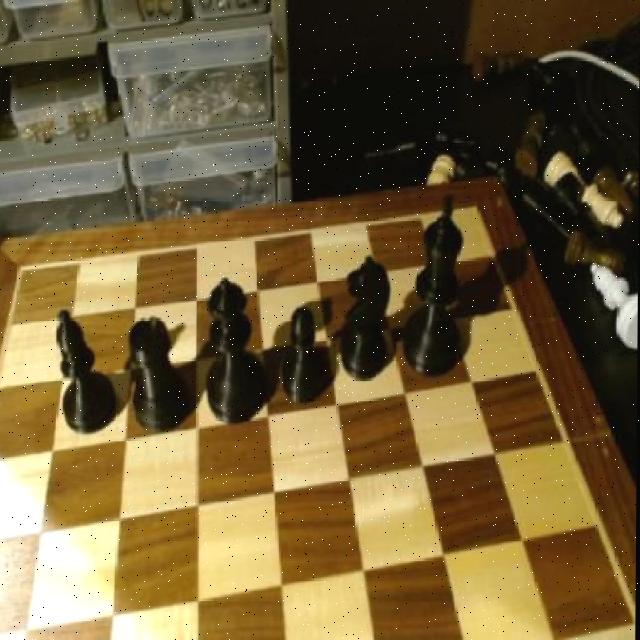bishop: (52, 306, 118, 439)
black-bishop: (400, 194, 468, 381)
black-king: (338, 255, 396, 382)
black-knight: (275, 302, 327, 406)
black-pawn: (198, 274, 269, 433)
black-queen: (124, 312, 193, 433)
